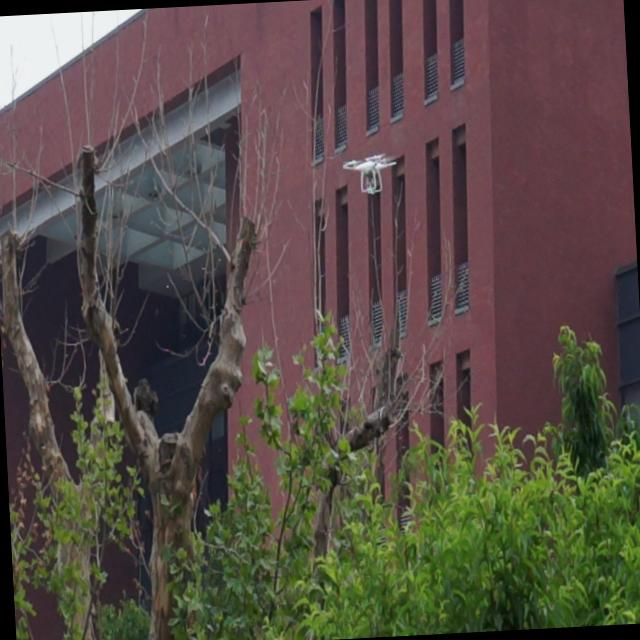drone: (342, 152, 398, 198)
